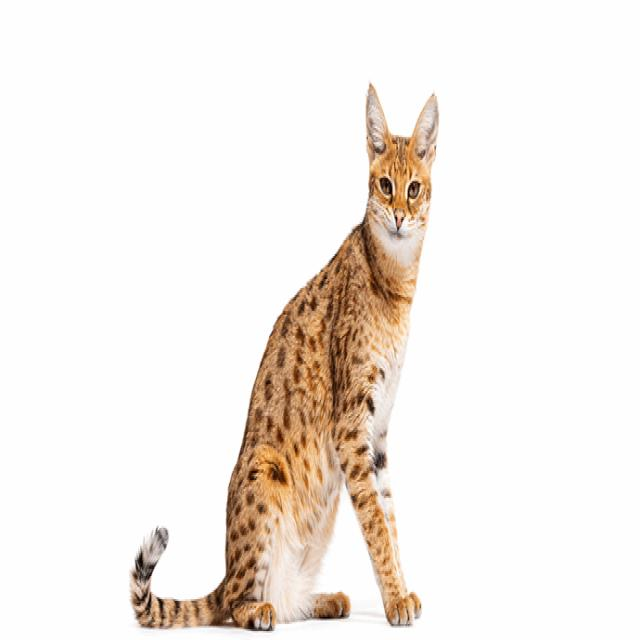Savannah: (126, 72, 442, 636)
